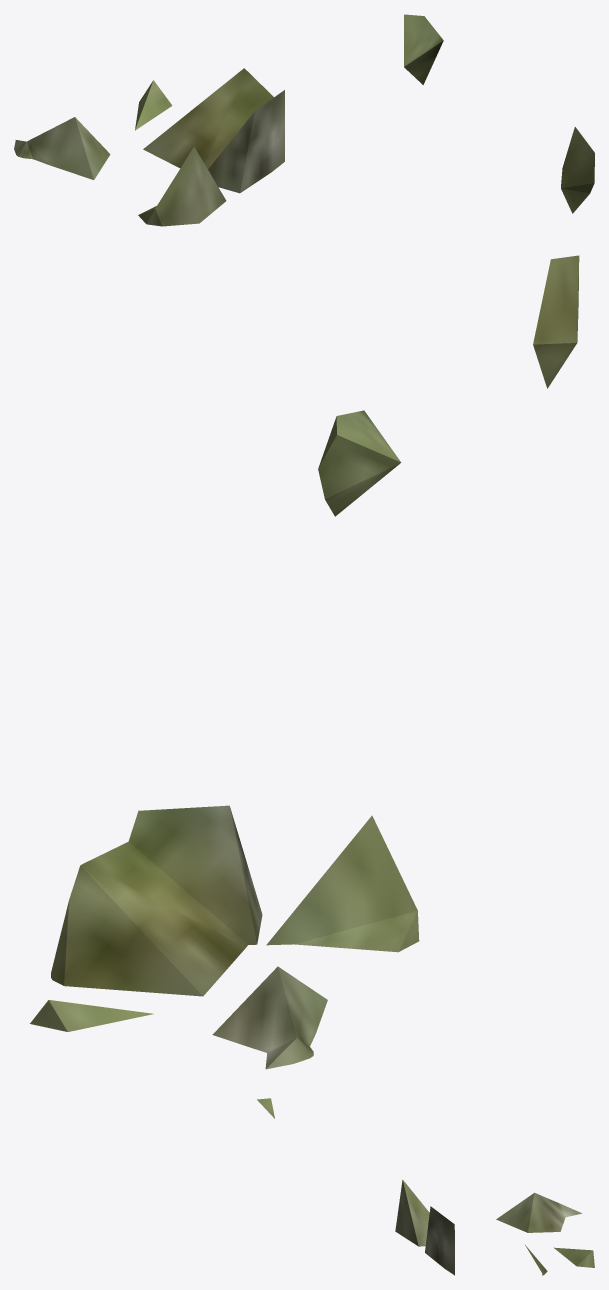
3 views of the same model, one above another, from view 1: azimuth 30°, elevation 25°; view 2: azimuth 150°, elevation 25°; view 3: azimuth 270°, elevation 25° (orthographic). The views are drawn at different scales.
Bounding box in the file's own units: 0.4328 × 0.526 × 1.57.
Materials: 1 (1 with a texture image).
